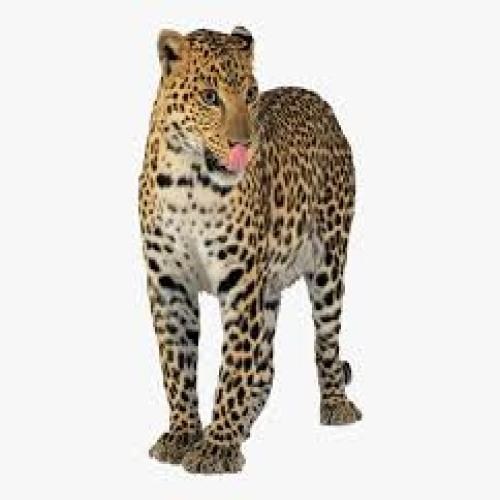jaguar_not-endangered: (138, 21, 364, 469)
